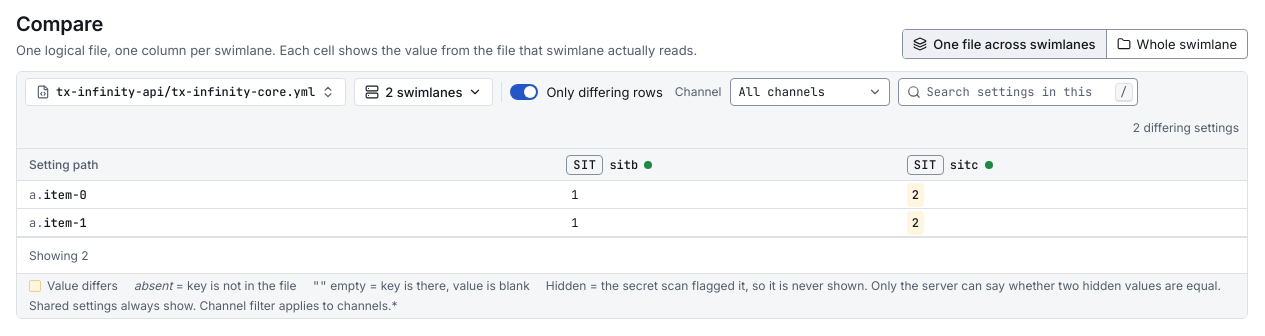
the Compare page › switches to the whole-swimlane compare of the first two swimlanes, and back to the grid
Expected: the table named "tx-infinity-core.yml across swimlanes" is shown, [17,149,1247,237]
Click the button "Whole swimlane" at [1176, 44], box [1106,30,1247,58]
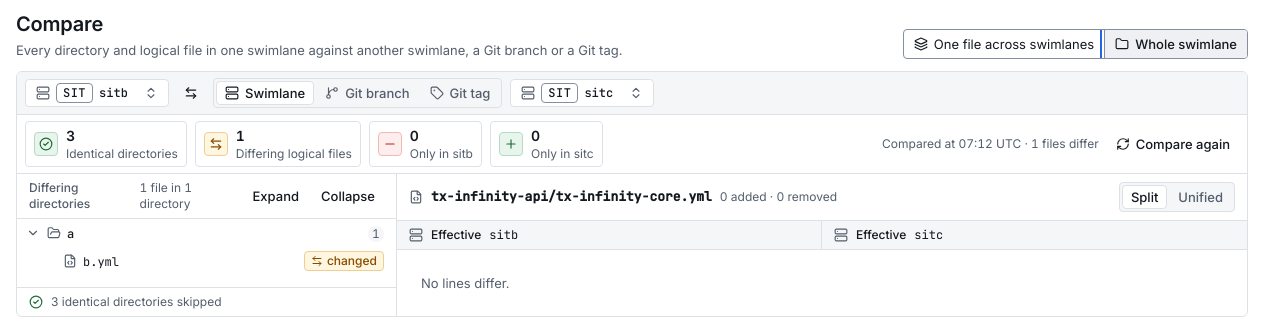
Expected: the element named "Differing files" is shown, [17,219,396,287]
Expected: the text "Every directory and logical file in one swimlane" is shown, [16,42,622,58]
Click the button "One file across swimlanes" at [1004, 44], box [904,30,1104,58]
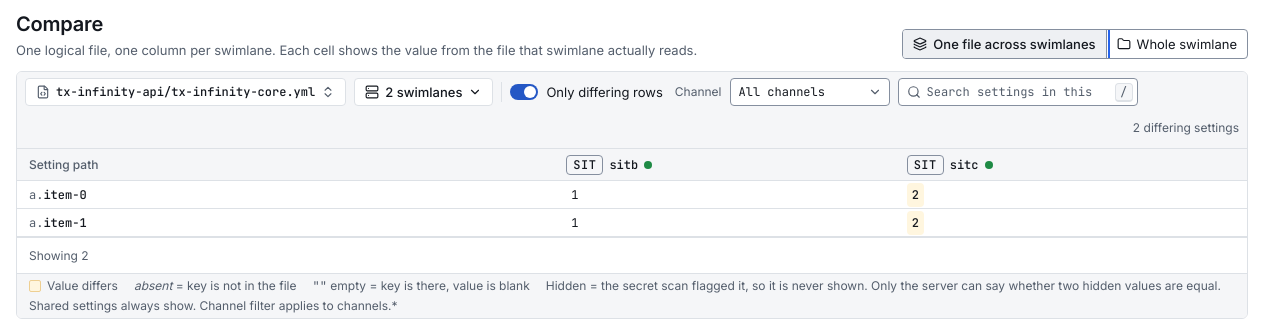
Expected: the table named "tx-infinity-core.yml across swimlanes" is shown, [17,149,1247,237]
